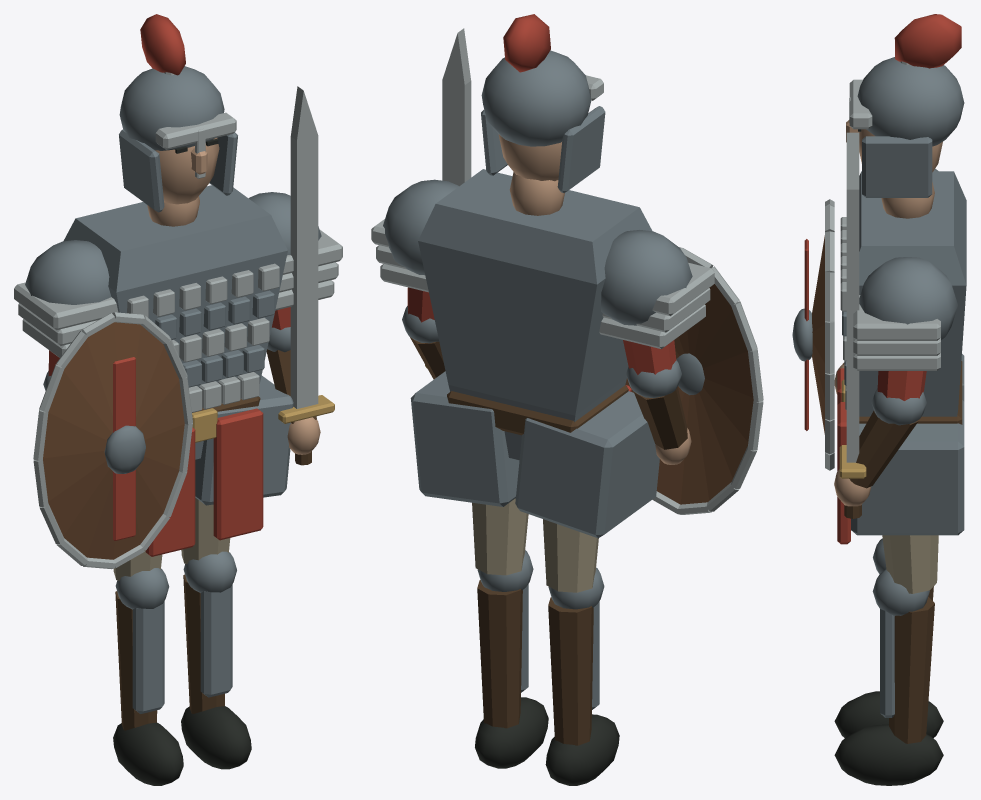
File: infantry.glb
3 views of the same model, side by side, from view 1: azimuth 30°, elevation 25°; view 2: azimuth 150°, elevation 25°; view 3: azimuth 270°, elevation 25° (orthographic). The views are drawn at different scales.
Visible parts, largest first — view 1: geometry_soldier, geometry_arm_left, geometry_arm_right, geometry_leg_right, geometry_leg_left; view 2: geometry_soldier, geometry_arm_left, geometry_leg_right, geometry_leg_left, geometry_arm_right; view 3: geometry_soldier, geometry_arm_right, geometry_leg_right, geometry_arm_left, geometry_leg_left.
Boxes of the visible parts, x1,y1,x2,y2 form: geometry_soldier: (63, 14, 293, 556); geometry_arm_left: (14, 240, 192, 569); geometry_arm_right: (248, 86, 342, 465); geometry_leg_right: (181, 498, 251, 769); geometry_leg_left: (113, 550, 183, 785); geometry_soldier: (410, 14, 659, 538); geometry_arm_left: (599, 230, 763, 514); geometry_leg_right: (472, 498, 548, 768); geometry_leg_left: (543, 519, 619, 785); geometry_arm_right: (371, 28, 471, 379); geometry_soldier: (837, 14, 966, 544); geometry_arm_right: (834, 132, 957, 518); geometry_leg_right: (834, 535, 943, 785); geometry_arm_left: (792, 168, 938, 470); geometry_leg_left: (834, 538, 943, 737).
Bounding box in the file's own units: 0.9029 × 1.97 × 0.414.
